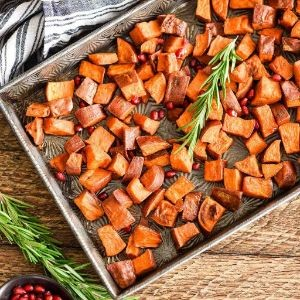sweet potato_brain food: (76, 63, 271, 202)
